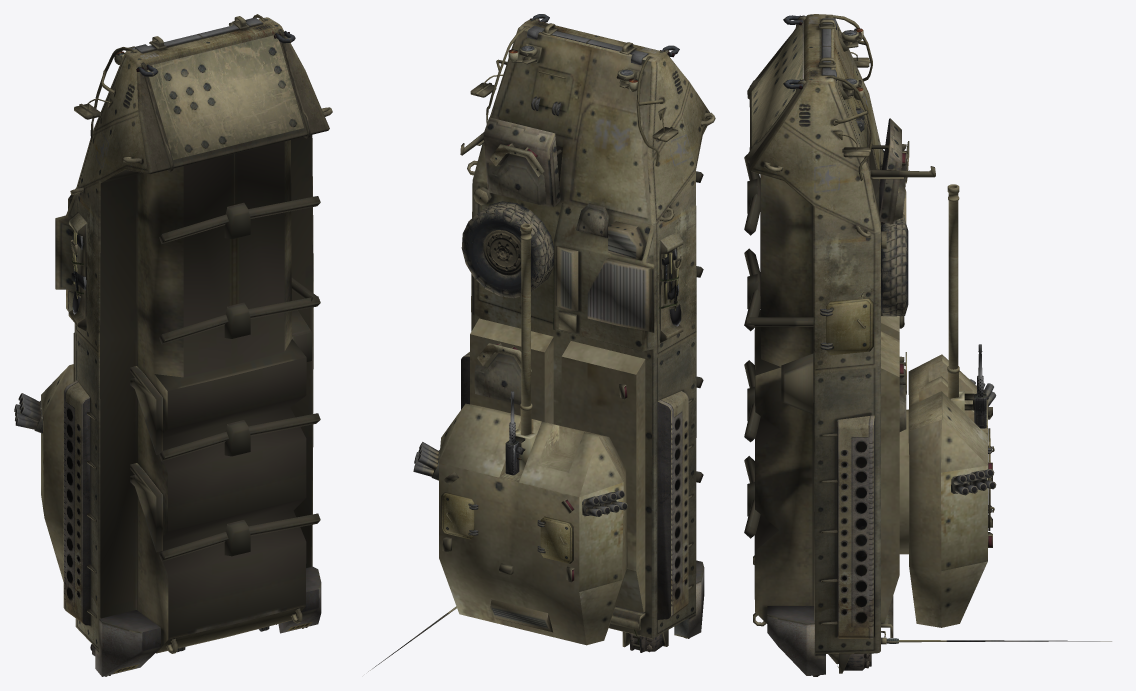
The model's file is Stryker.fbx.
3 renders of one model, left to right at view 1: azimuth 30°, elevation 25°; view 2: azimuth 150°, elevation 25°; view 3: azimuth 270°, elevation 25°, orthographic. The views are drawn at different scales.
Visible parts, largest first — view 1: Body, Turret; view 2: Body, Turret, Barrel, Cannon; view 3: Body, Turret, Barrel, Cannon.
Part boxes in pixels (x1,y1,x2,y2): Body: (55,14,332,676); Turret: (14,364,73,581); Body: (368,14,715,671); Turret: (413,403,627,645); Barrel: (520,223,531,406); Cannon: (505,391,536,475); Body: (744,14,1111,676); Turret: (908,354,996,627); Barrel: (947,184,959,369); Cannon: (947,344,988,428).
Size of what is drawn, in the model's own units: 3.07 by 8.12 by 4.69.
